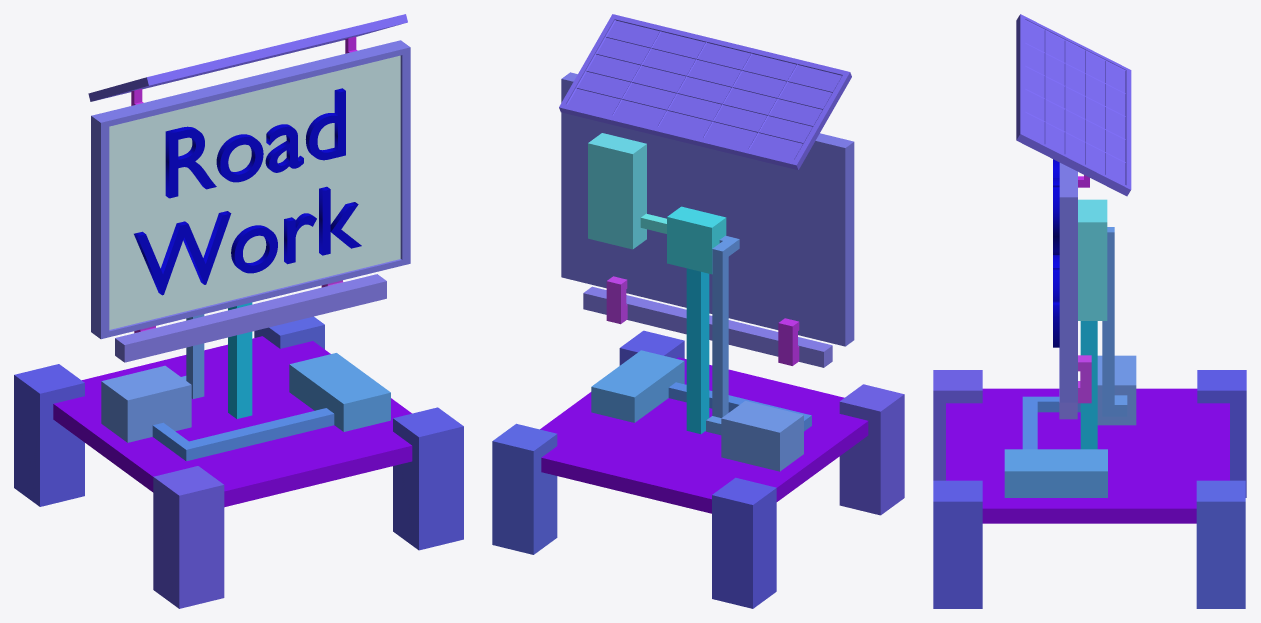
File: neon_road_sign_colored.fbx
The picture shows the model from 3 angles, left to right: view 1: azimuth 30°, elevation 25°; view 2: azimuth 150°, elevation 25°; view 3: azimuth 270°, elevation 25°; orthographic projection. The views are drawn at different scales.
Visible parts, largest first — view 1: display_plane, Text; view 2: display_plane; view 3: display_plane, Text.
Boxes of the visible parts, bbox=[...] form: display_plane: bbox=[14, 14, 463, 608]; Text: bbox=[134, 88, 361, 295]; display_plane: bbox=[492, 14, 904, 608]; display_plane: bbox=[933, 14, 1246, 608]; Text: bbox=[1053, 159, 1059, 347].
Bounding box in the file's own units: 343 × 523 × 317.
